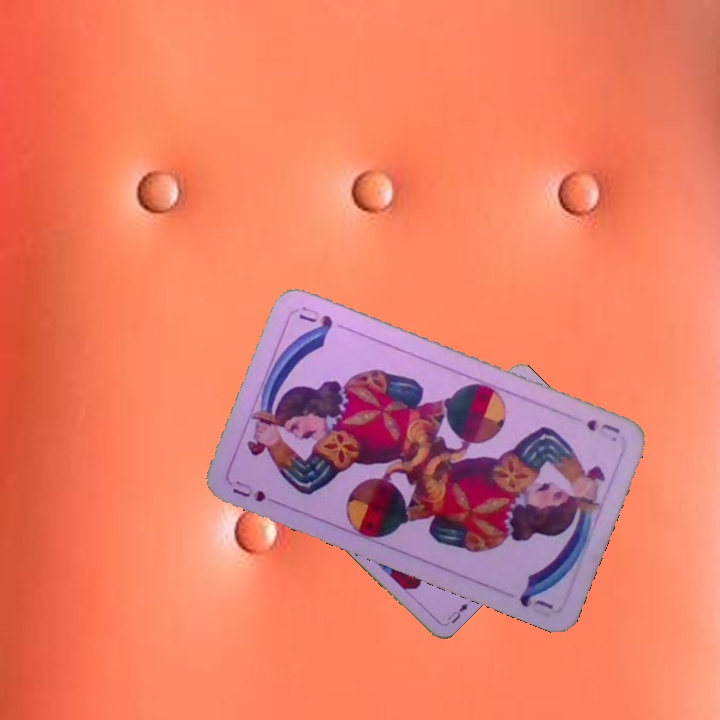EU: (442, 596, 474, 628)
SU: (228, 476, 284, 508), (582, 415, 622, 445)
